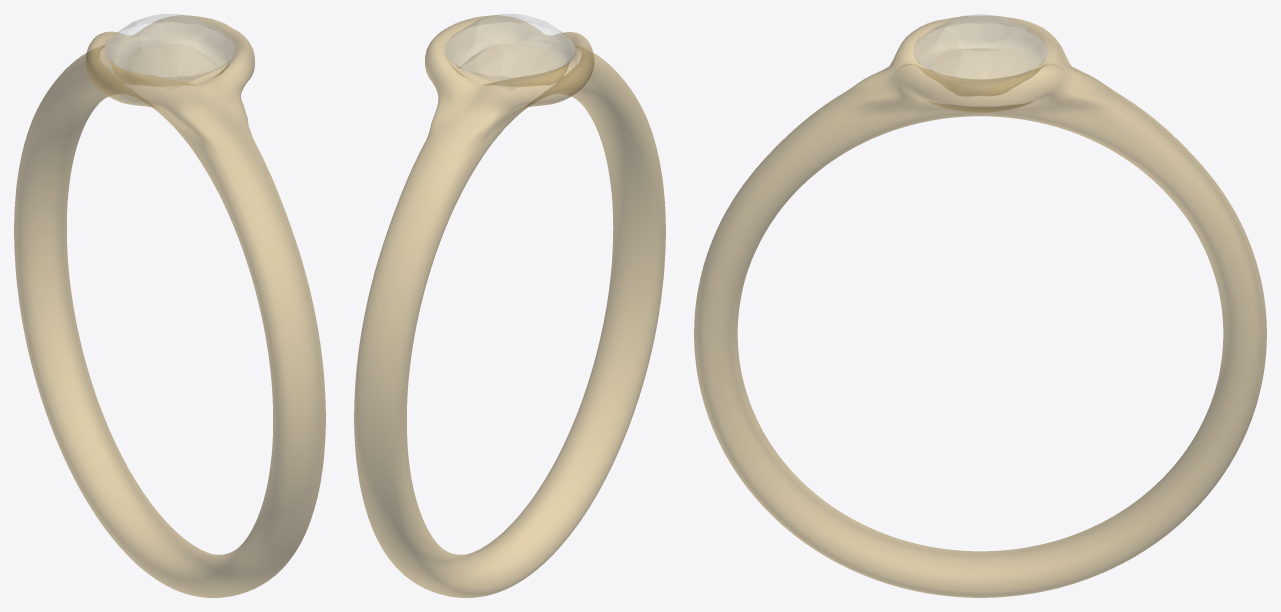
3 views of the same model, side by side, from view 1: azimuth 30°, elevation 25°; view 2: azimuth 150°, elevation 25°; view 3: azimuth 270°, elevation 25° (orthographic). The views are drawn at different scales.
Parts seen in each view (by area): view 1: Ring, Diamond; view 2: Ring, Diamond; view 3: Ring, Diamond.
Part boxes in pixels (box(x1,y1,x2,y2)): Ring: box(14, 15, 325, 597); Diamond: box(105, 14, 234, 90); Ring: box(354, 15, 665, 597); Diamond: box(445, 14, 574, 90); Ring: box(694, 16, 1266, 597); Diamond: box(913, 14, 1047, 79).
Bounding box in the file's own units: 0.704 × 2.52 × 2.32.
